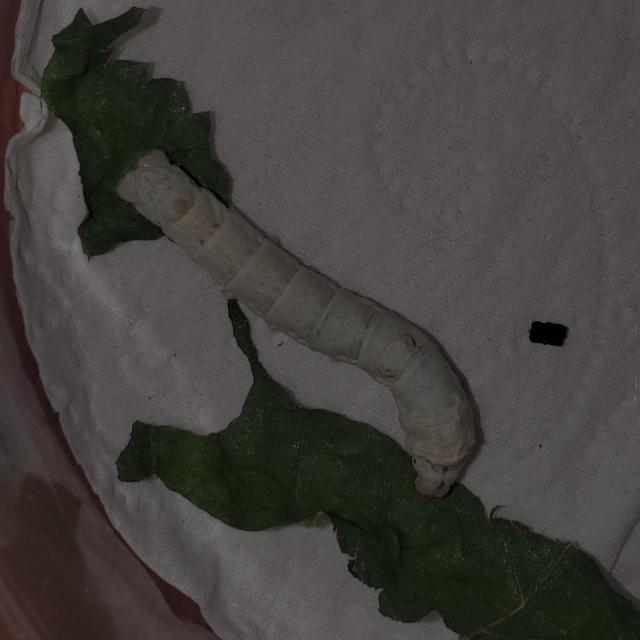Healthy: (70, 117, 502, 538)
